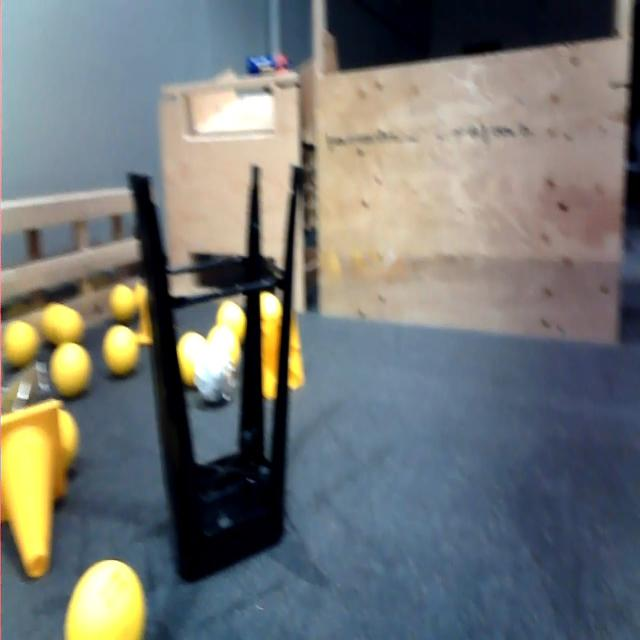fuel: (58, 540, 150, 640), (46, 338, 98, 403), (2, 301, 41, 368), (40, 296, 89, 347), (100, 324, 142, 379), (174, 324, 210, 386), (208, 319, 242, 370), (214, 298, 247, 338), (107, 281, 137, 322), (254, 285, 282, 318)
